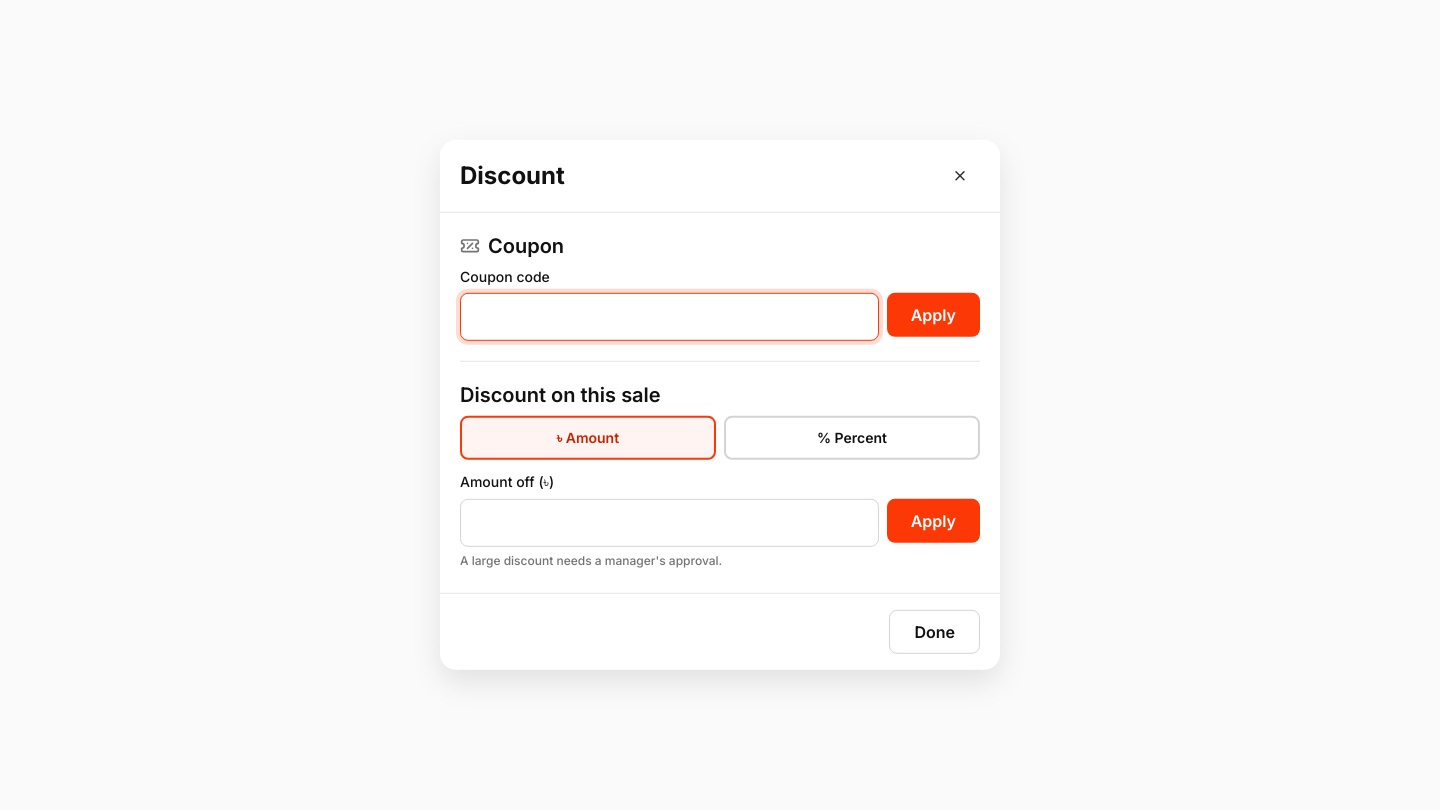
Scenario: DiscountPanel, coupons › puts a coupon on the sale once the server has priced it
Type "store100" into the field labelled "Coupon code" at [669, 317], box [460,293,879,341]
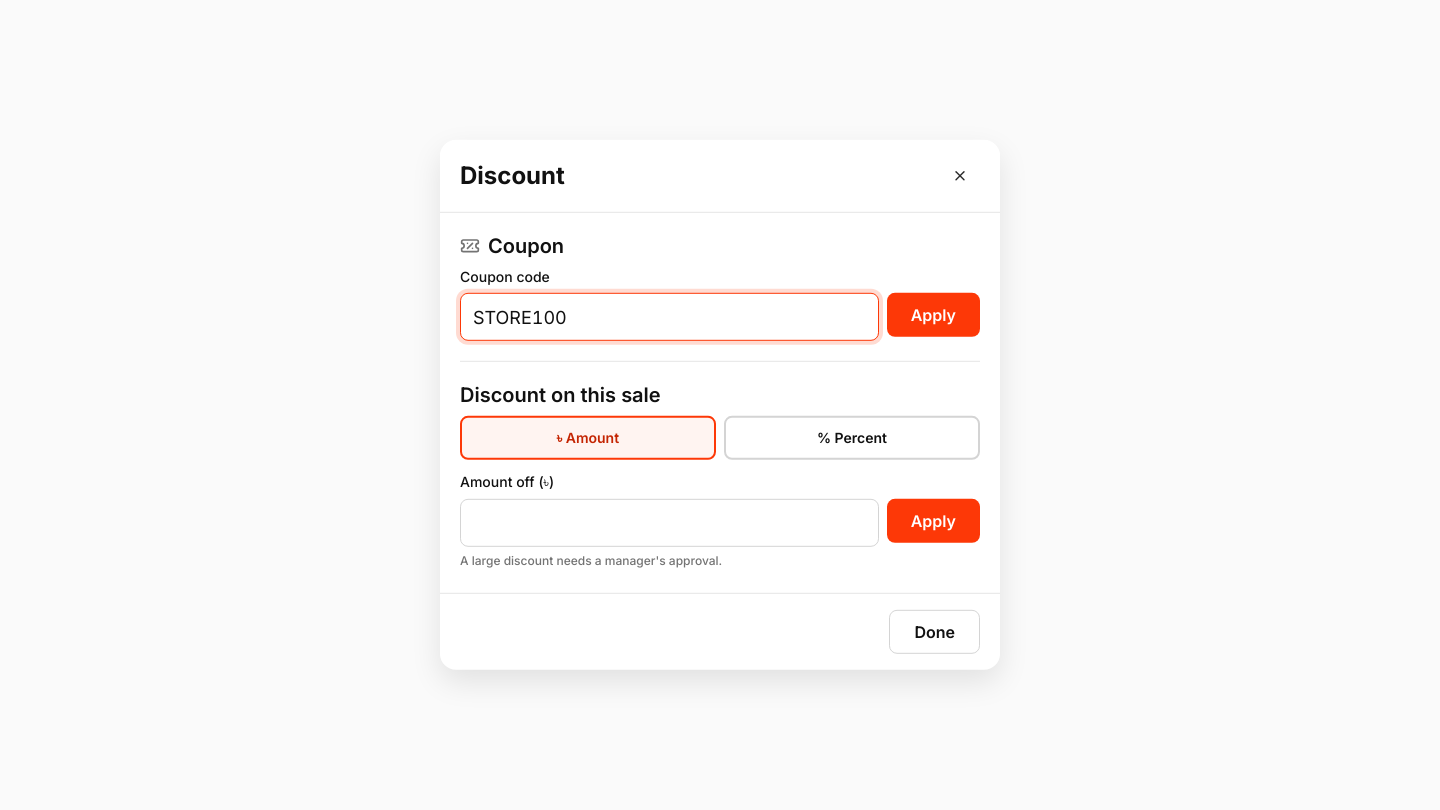
Click the 1st button "Apply" at [933, 315], box [887,293,980,337]
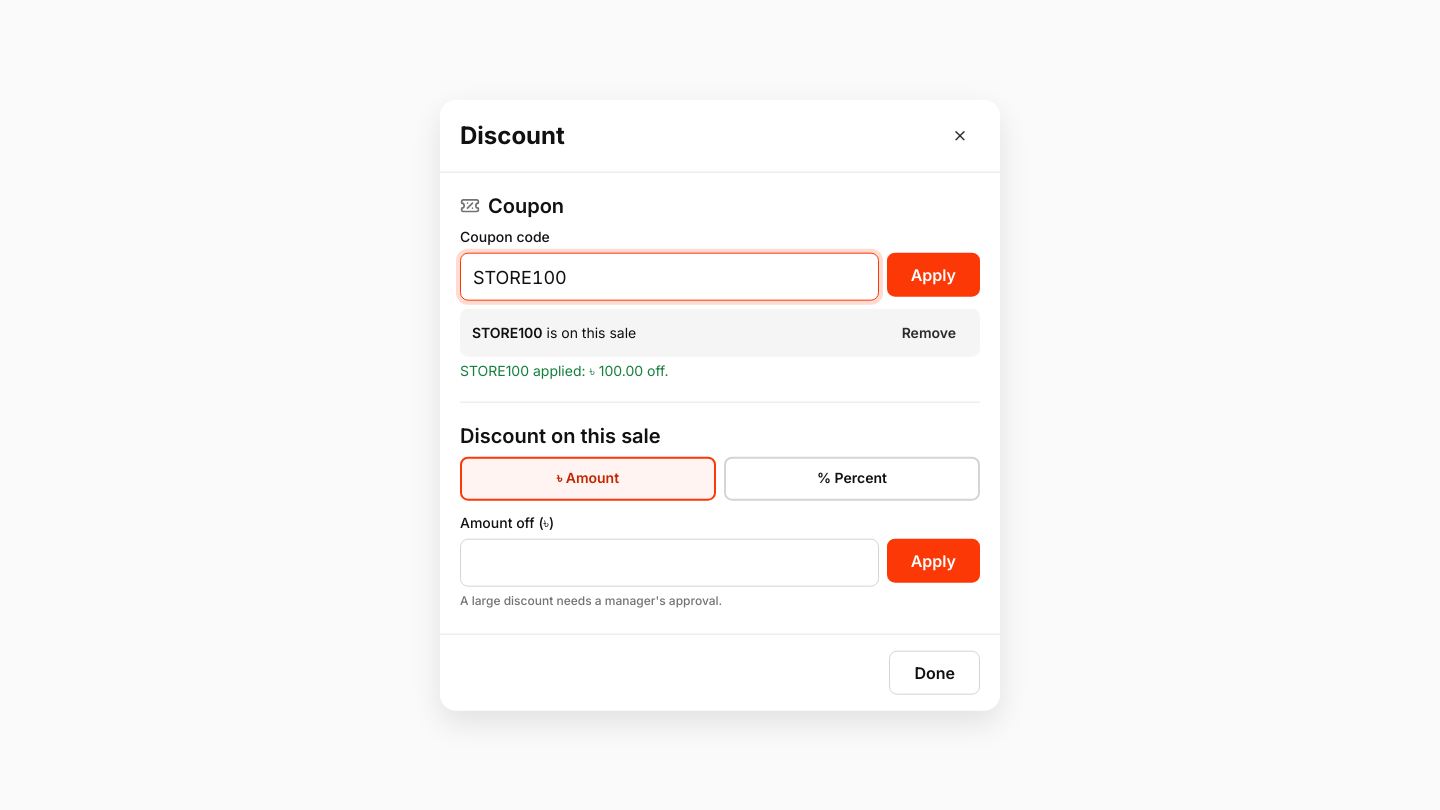
Check: the text "STORE100 applied: ৳ 100.00 off." is shown, box [460,362,668,379]
Check: the text "STORE100" is shown, box [472,324,543,341]
